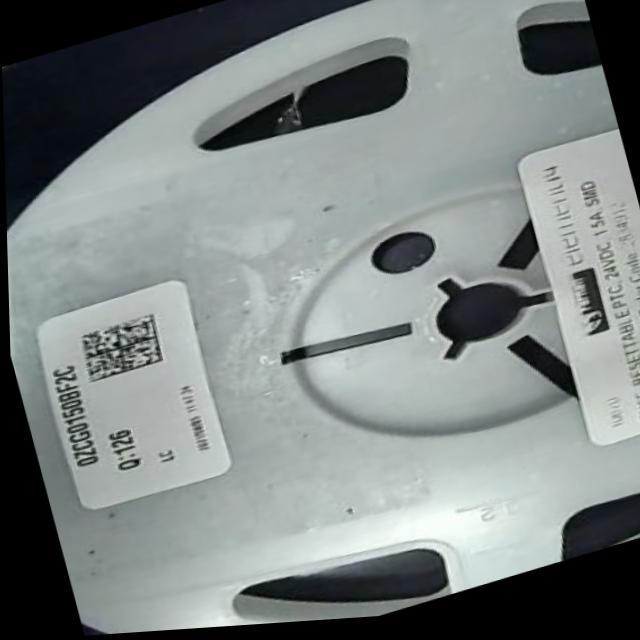datamatrix: (69, 310, 169, 388)
